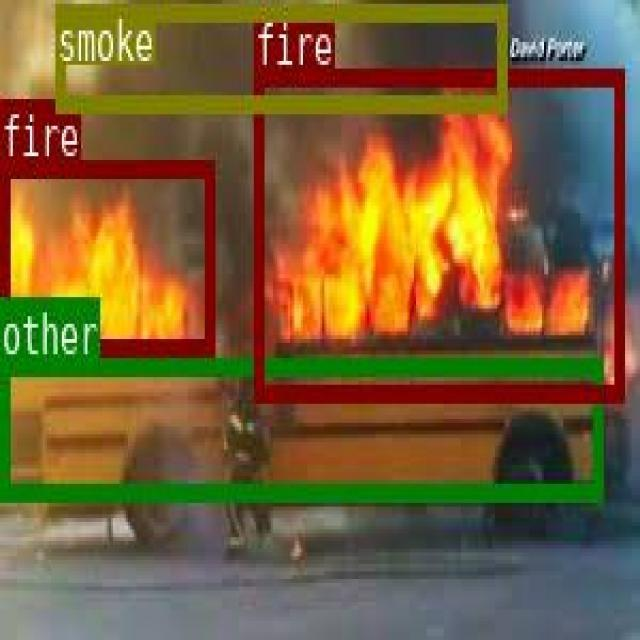fire: (252, 67, 622, 397), (0, 158, 211, 352)
smoke: (54, 1, 505, 109)
